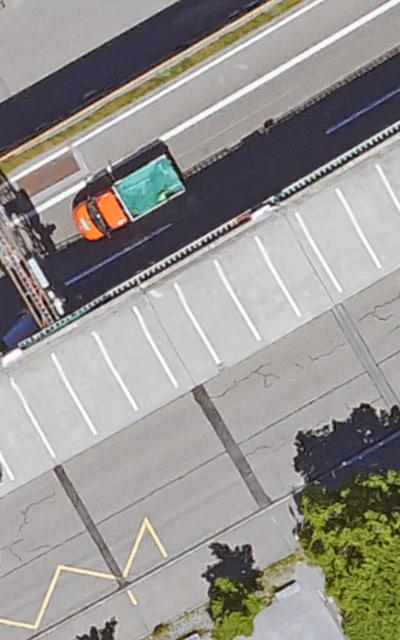tree: (302, 474, 400, 640), (209, 579, 263, 640)
